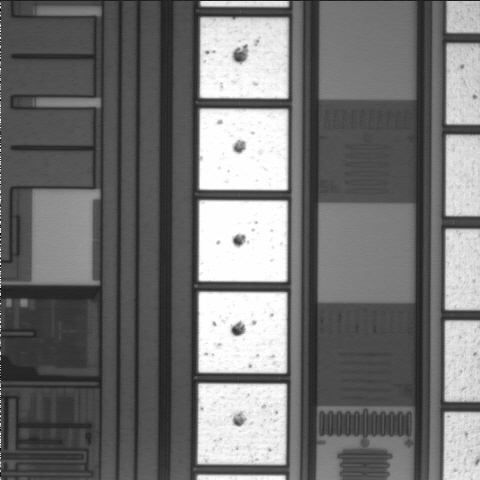pad: (197, 383, 287, 465), (199, 200, 288, 282), (200, 17, 288, 99), (199, 109, 288, 190), (198, 292, 287, 373)
